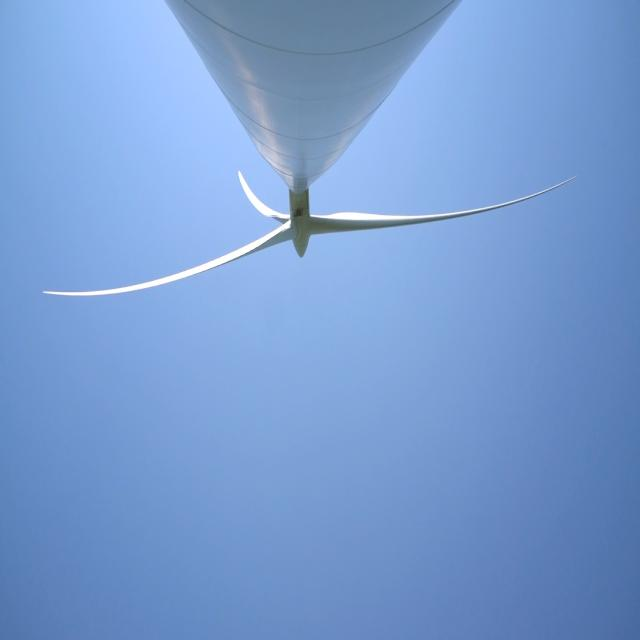blade 1: (50, 254, 260, 318)
blade 2: (334, 185, 540, 255)
blade 3: (222, 168, 275, 224)
